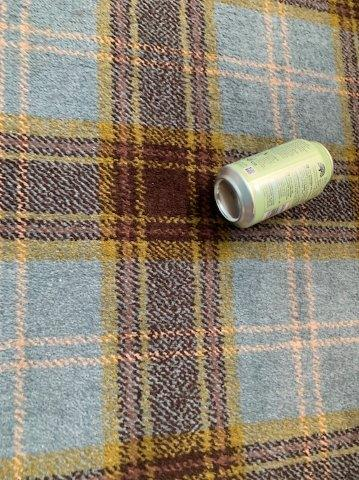kaleng: (215, 140, 332, 228)
